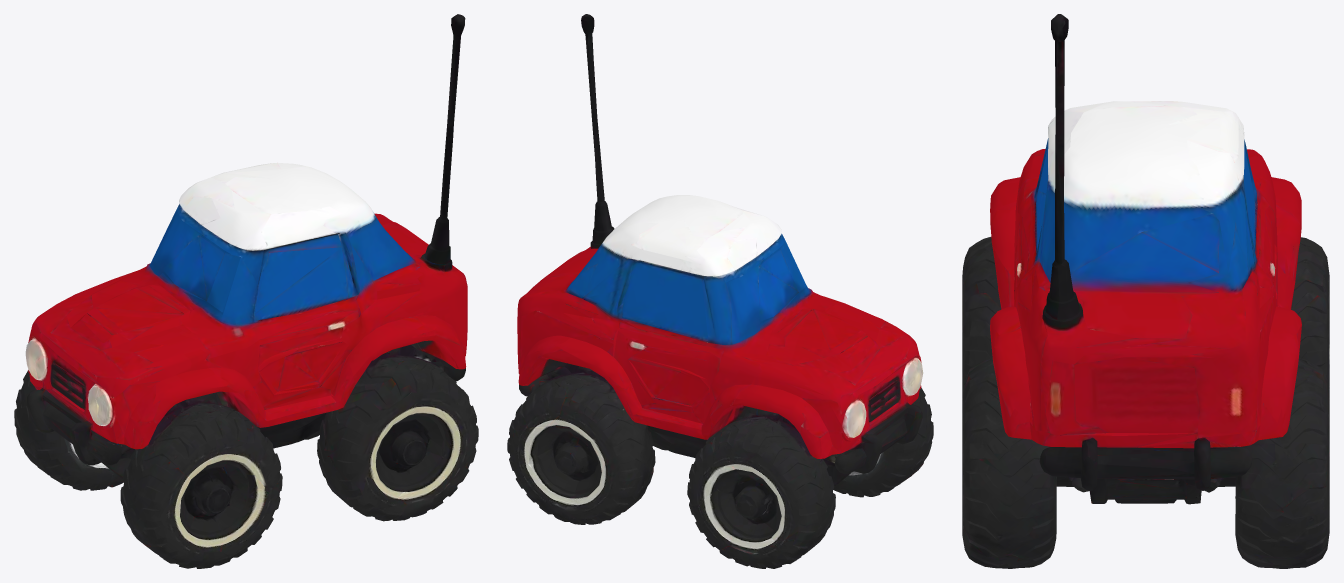
Rendered from dash.glb.
3 views of the same model, side by side, from view 1: azimuth 30°, elevation 25°; view 2: azimuth 150°, elevation 25°; view 3: azimuth 270°, elevation 25° (orthographic). The views are drawn at different scales.
Parts seen in each view (by area): view 1: Mesh_0; view 2: Mesh_0; view 3: Mesh_0.
Part boxes in pixels (x1,y1,x2,y2): Mesh_0: [14, 14, 478, 568]; Mesh_0: [507, 14, 933, 568]; Mesh_0: [962, 14, 1329, 568].
Size of the model in its own units: 1.69 by 1.9 by 1.07.
Materials: 1 (1 with a texture image).
